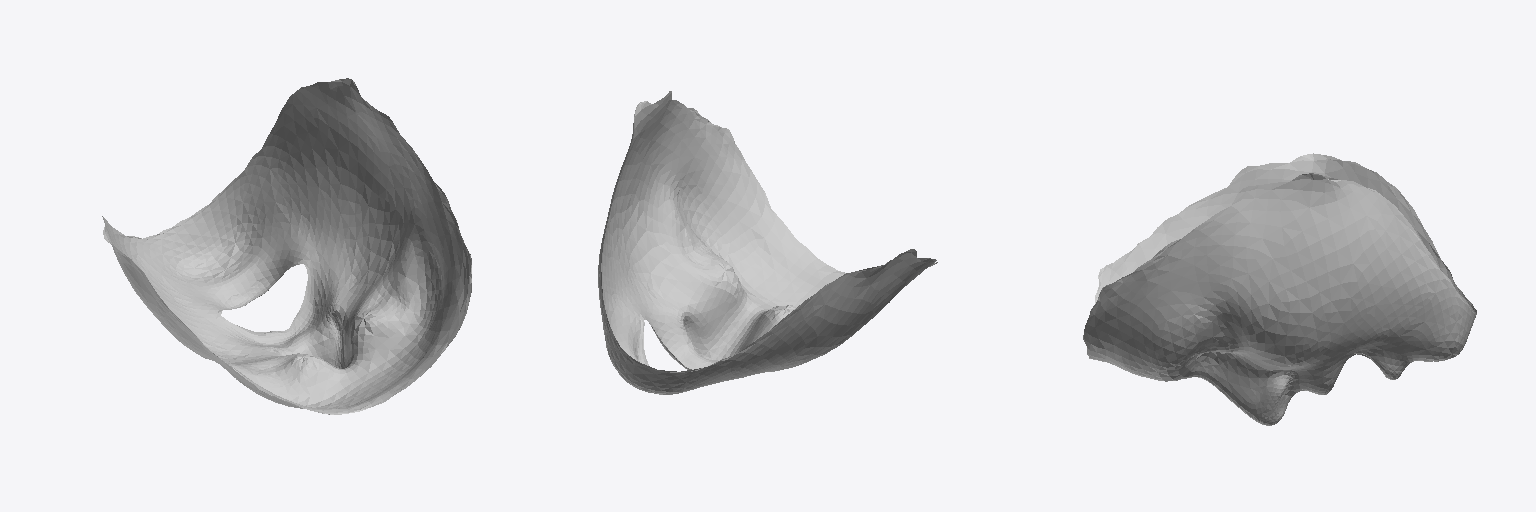
The model's file is face_gab_sfm76.obj.
The picture shows the model from 3 angles: view 1: azimuth 30°, elevation 25°; view 2: azimuth 150°, elevation 25°; view 3: azimuth 270°, elevation 25°; orthographic projection.
Bounding box in the file's own units: 166 × 162 × 211.